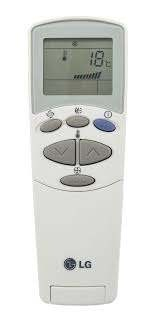remote control: (30, 18, 125, 309)
